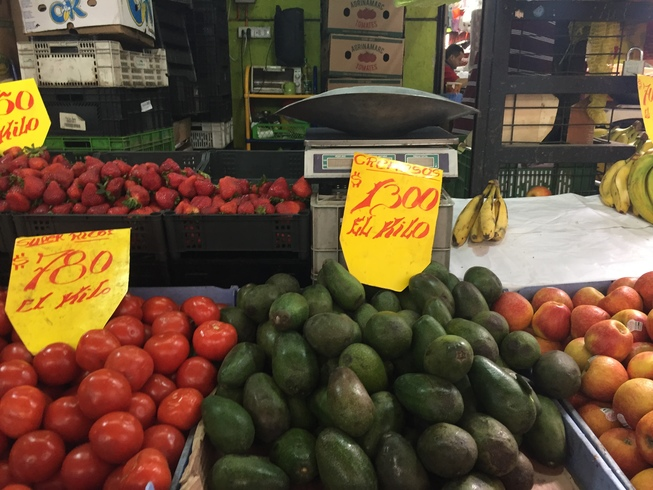precio: (12, 230, 135, 358), (343, 153, 444, 287), (1, 79, 55, 142)
